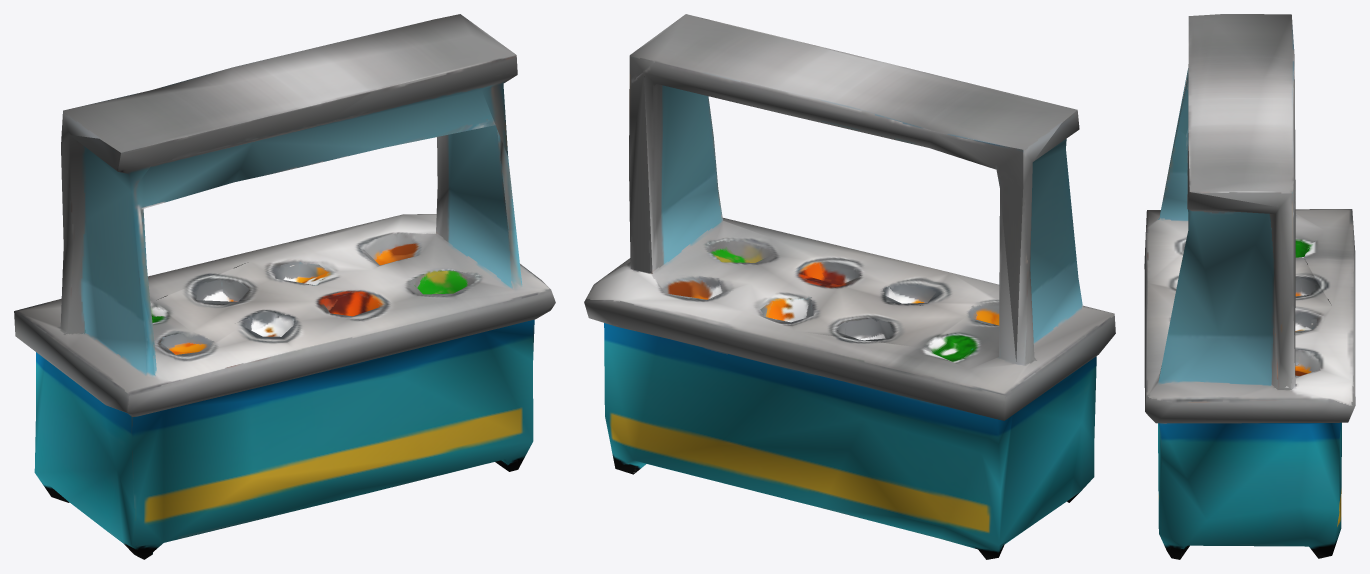
File: serving-counter.glb
3 renders of one model, left to right at view 1: azimuth 30°, elevation 25°; view 2: azimuth 150°, elevation 25°; view 3: azimuth 270°, elevation 25°, orthographic. The views are drawn at different scales.
Visible parts, largest first — view 1: geometry_0.001; view 2: geometry_0.001; view 3: geometry_0.001.
Boxes of the visible parts, <box> form: geometry_0.001: <box>14,14,555,559</box>; geometry_0.001: <box>584,14,1115,559</box>; geometry_0.001: <box>1144,14,1355,559</box>.
Size of the model in its own units: 0.9982 by 0.9122 by 0.4631.
1 material, 1 textured.
